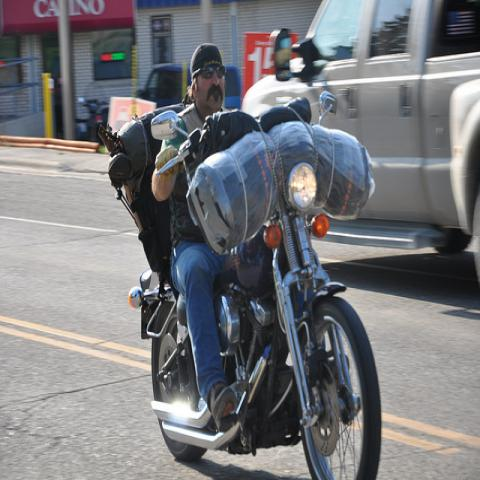car: (135, 63, 242, 111)
motorcycle: (109, 101, 388, 472)
truck: (242, 0, 479, 292)
